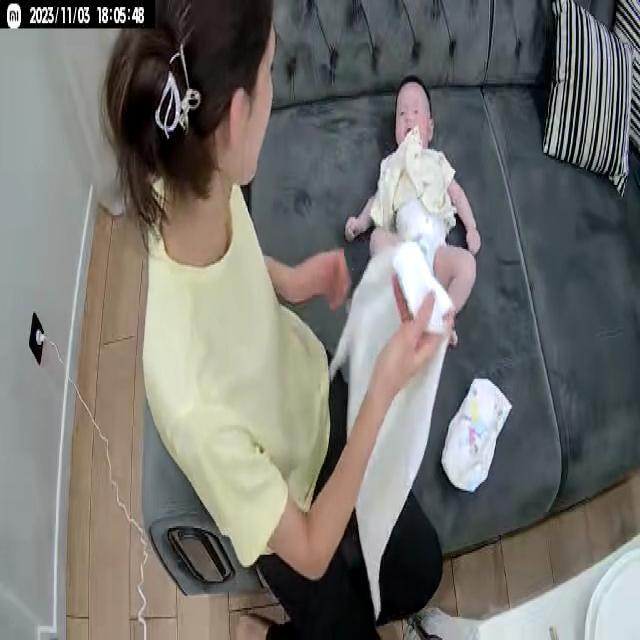baby: (340, 75, 480, 357)
